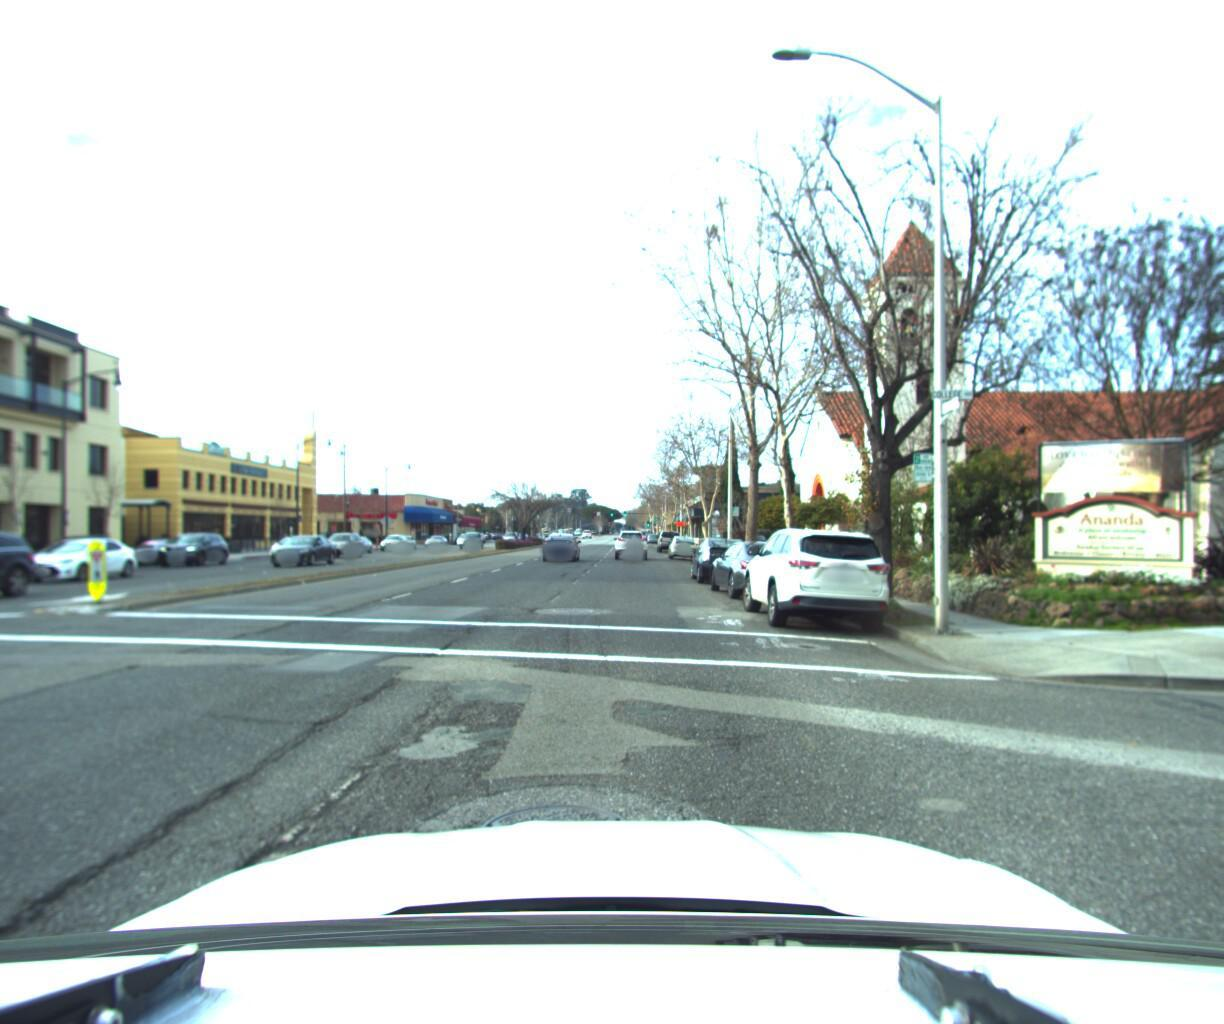car: (736, 522, 900, 633), (703, 536, 817, 603), (18, 539, 148, 586), (688, 533, 763, 584), (122, 535, 203, 567), (267, 535, 342, 568), (159, 536, 237, 567), (539, 534, 579, 562), (319, 533, 366, 557), (614, 528, 646, 557), (668, 533, 699, 559), (657, 526, 683, 550), (378, 533, 406, 550), (458, 530, 483, 547)
